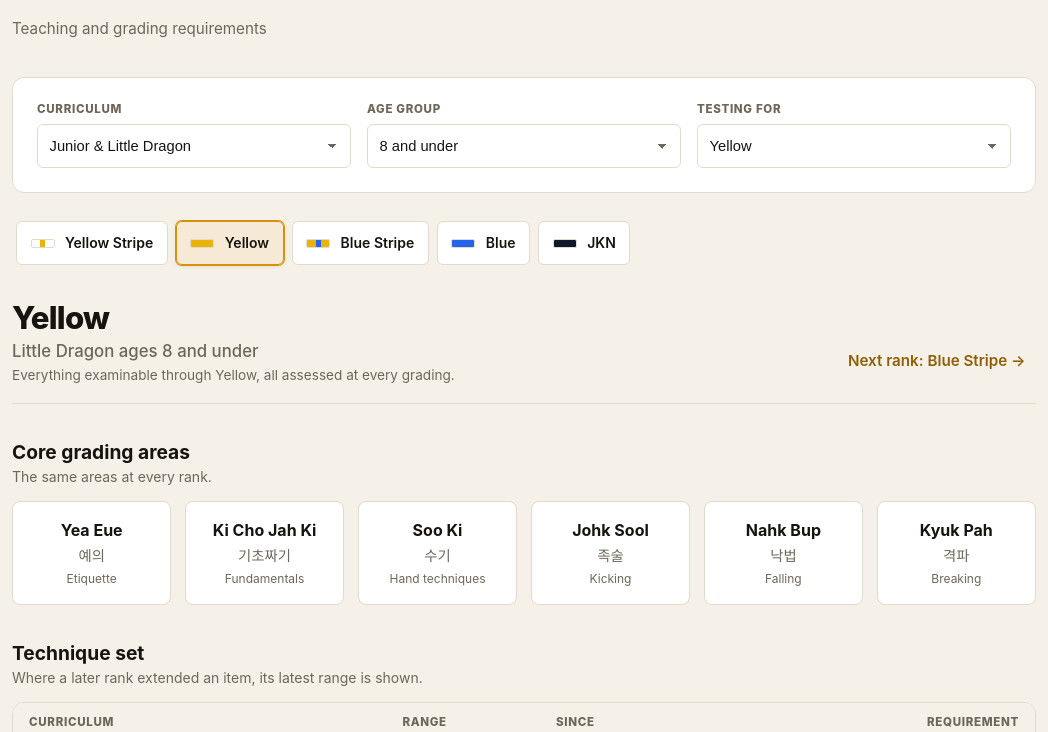
Test: SyllabusScreen › switches rank when belt button or testing for selector is changed
This screenshot has width=1048, height=732.
Click the button "Blue Stripe". click: coordinates (360, 243)
box: left=292, top=221, right=429, bottom=265
(page scrolled)
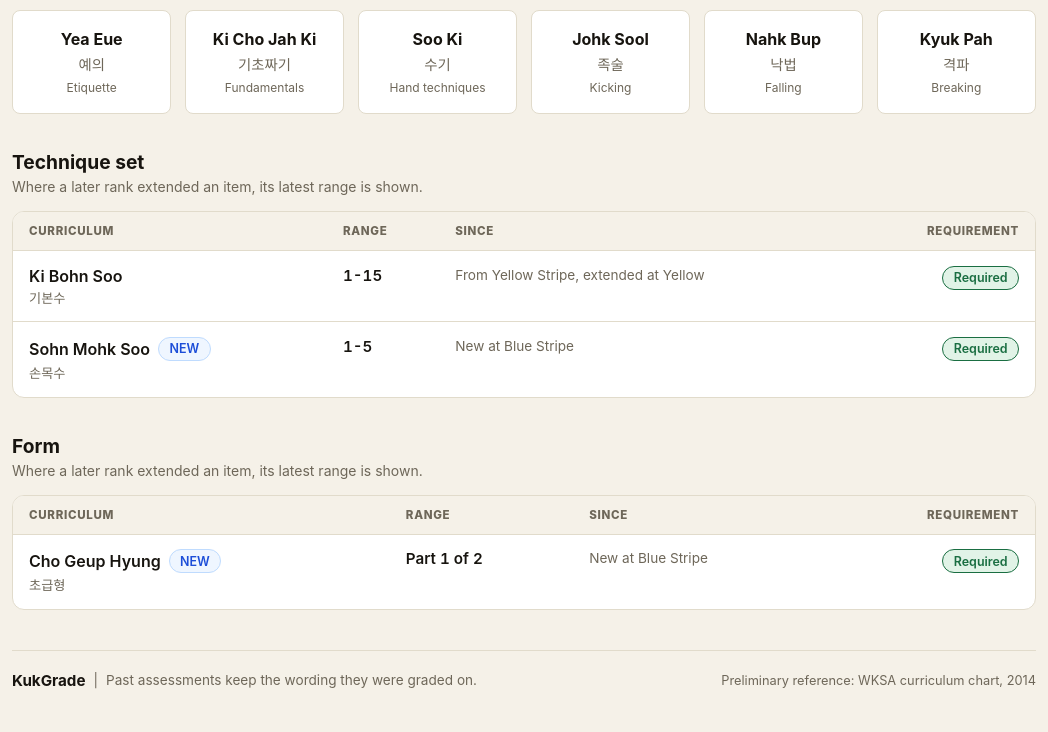
Result: the text "Sohn Mohk Soo" is shown at left=29, top=339, right=150, bottom=359
